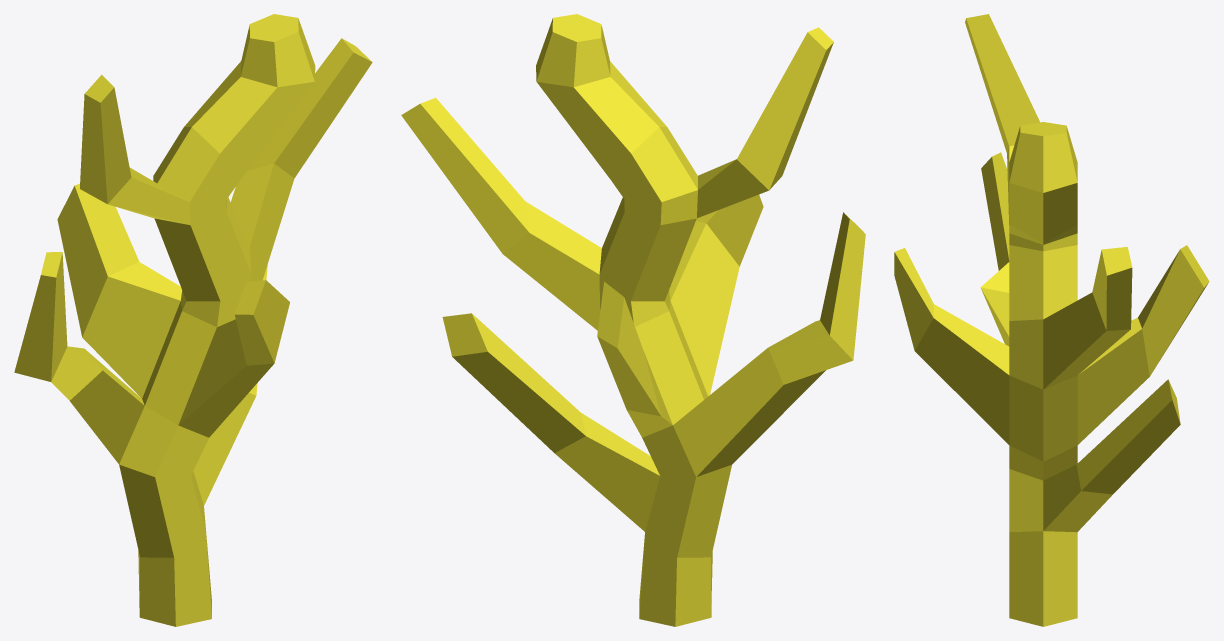
Rendered from CoralYellow.FBX.
3 views of the same model, side by side, from view 1: azimuth 30°, elevation 25°; view 2: azimuth 150°, elevation 25°; view 3: azimuth 270°, elevation 25° (orthographic). The views are drawn at different scales.
Visible parts, largest first — view 1: CoralYellow; view 2: CoralYellow; view 3: CoralYellow.
Boxes of the visible parts, left/top/right/bottom form: CoralYellow: left=14, top=14, right=372, bottom=626; CoralYellow: left=401, top=14, right=865, bottom=626; CoralYellow: left=894, top=14, right=1209, bottom=626.
Size of the model in its own units: 27.64 by 38.42 by 19.99.
